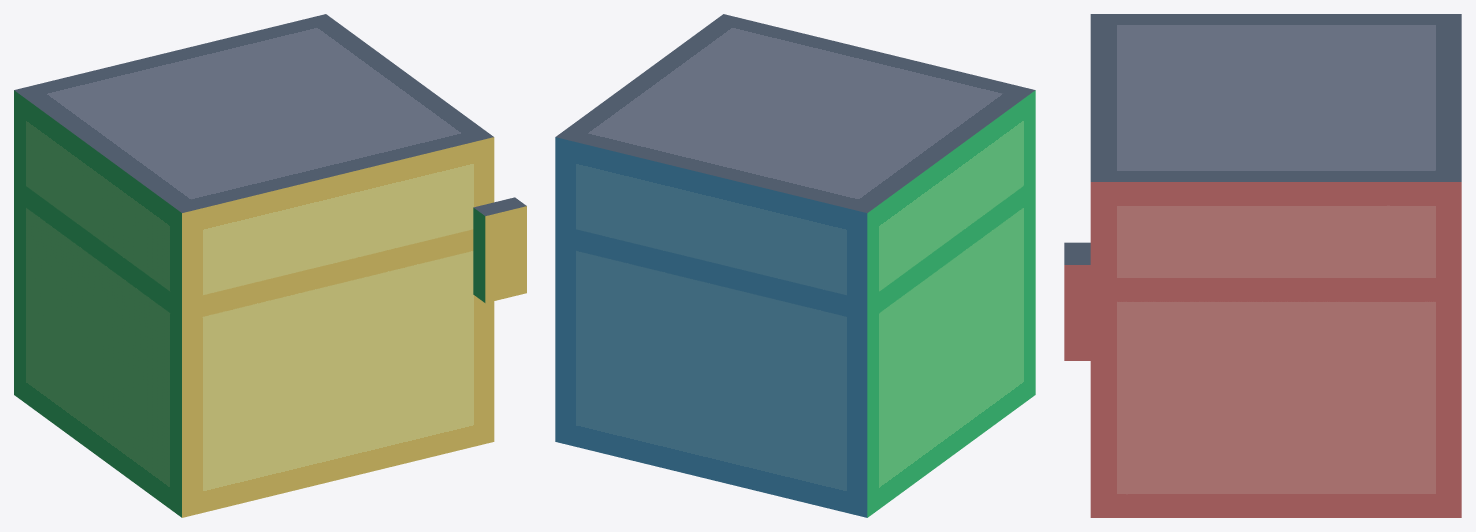
Rendered from chest_right.gltf.
The picture shows the model from 3 angles, left to right: view 1: azimuth 30°, elevation 25°; view 2: azimuth 150°, elevation 25°; view 3: azimuth 270°, elevation 25°; orthographic projection. The views are drawn at different scales.
Visible parts, largest first — view 1: cube (×3); view 2: cube (×2); view 3: cube (×3).
Boxes of the visible parts, <box> form: cube (×3): <box>14,14,526,517</box>; cube (×2): <box>555,14,1035,517</box>; cube (×3): <box>1064,14,1461,517</box>.
Bounding box in the file's own units: 1 × 0.875 × 0.9375.
1 material, 1 textured.
